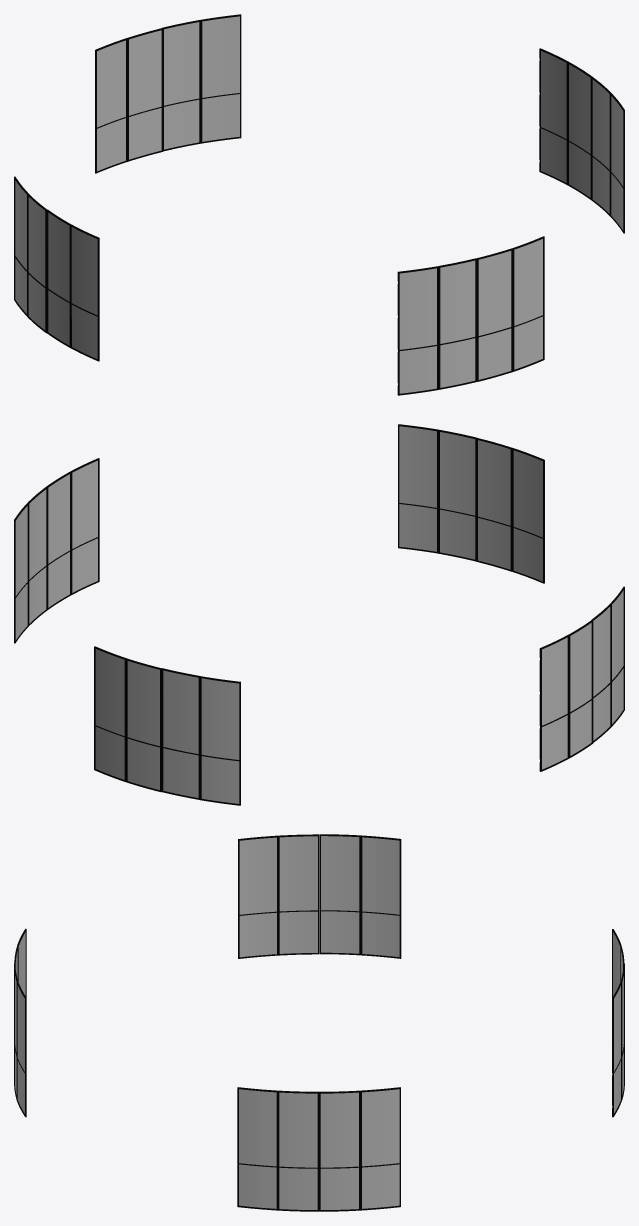
The model's file is doors.glb.
3 renders of one model, top to bottom at view 1: azimuth 30°, elevation 25°; view 2: azimuth 150°, elevation 25°; view 3: azimuth 270°, elevation 25°, orthographic. The views are drawn at different scales.
Visible parts, largest first — view 1: Door_SuNgiep_R, Door_QueHuong_R, Door_QueHuong_L, Door_SuNgiep_L, Door_MauChuyen_L, Door_HanhTrinh_L, Door_HanhTrinh_R, Door_MauChuyen_R; view 2: Door_QueHuong_L, Door_SuNgiep_L, Door_SuNgiep_R, Door_QueHuong_R, Door_MauChuyen_R, Door_HanhTrinh_R, Door_HanhTrinh_L, Door_MauChuyen_L; view 3: Door_HanhTrinh_R, Door_MauChuyen_R, Door_HanhTrinh_L, Door_MauChuyen_L, Door_SuNgiep_L, Door_QueHuong_R, Door_SuNgiep_R, Door_QueHuong_L.
Part boxes in pixels (x1=…): Door_SuNgiep_R: x1=397, y1=258, x2=476, y2=395; Door_QueHuong_R: x1=162, y1=14, x2=241, y2=151; Door_QueHuong_L: x1=95, y1=28, x2=162, y2=173; Door_SuNgiep_L: x1=477, y1=236, x2=544, y2=381; Door_MauChuyen_L: x1=46, y1=209, x2=99, y2=361; Door_HanhTrinh_L: x1=539, y1=48, x2=592, y2=199; Door_HanhTrinh_R: x1=591, y1=77, x2=624, y2=233; Door_MauChuyen_R: x1=14, y1=176, x2=46, y2=333; Door_QueHuong_L: x1=161, y1=668, x2=240, y2=805; Door_SuNgiep_L: x1=398, y1=424, x2=476, y2=561; Door_SuNgiep_R: x1=476, y1=438, x2=544, y2=583; Door_QueHuong_R: x1=94, y1=646, x2=161, y2=792; Door_MauChuyen_R: x1=539, y1=620, x2=593, y2=771; Door_HanhTrinh_R: x1=46, y1=458, x2=99, y2=609; Door_HanhTrinh_L: x1=14, y1=486, x2=47, y2=643; Door_MauChuyen_L: x1=591, y1=586, x2=624, y2=742; Door_HanhTrinh_R: x1=237, y1=1087, x2=319, y2=1211; Door_MauChuyen_R: x1=319, y1=834, x2=401, y2=958; Door_HanhTrinh_L: x1=319, y1=1087, x2=400, y2=1211; Door_MauChuyen_L: x1=238, y1=834, x2=319, y2=958; Door_SuNgiep_L: x1=14, y1=963, x2=26, y2=1117; Door_QueHuong_R: x1=612, y1=963, x2=624, y2=1117; Door_SuNgiep_R: x1=14, y1=928, x2=26, y2=997; Door_QueHuong_L: x1=612, y1=929, x2=624, y2=1041.
Size of the model in its own units: 12.96 by 2.8 by 12.96.
Materials: 2 (1 with a texture image).
